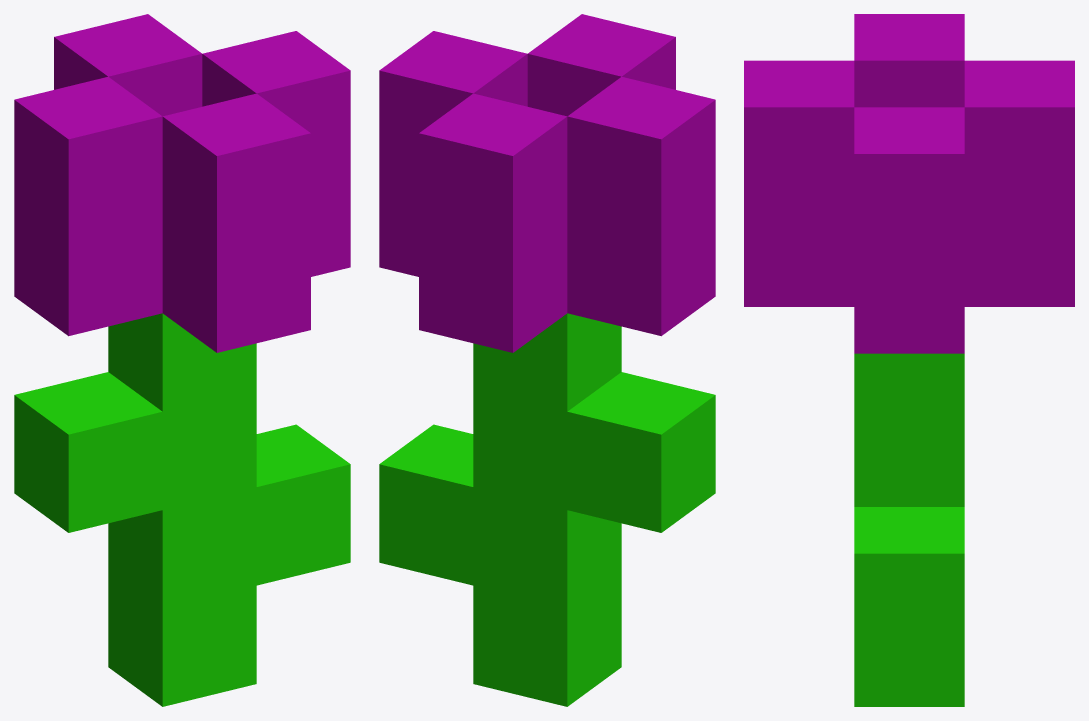
Rendered from (6) Violet Flowers (Stage 6).obj.
3 renders of one model, left to right at view 1: azimuth 30°, elevation 25°; view 2: azimuth 150°, elevation 25°; view 3: azimuth 270°, elevation 25°, orthographic.
Bounding box in the file's own units: 0.3 × 0.6 × 0.3.
1 material, 1 textured.
